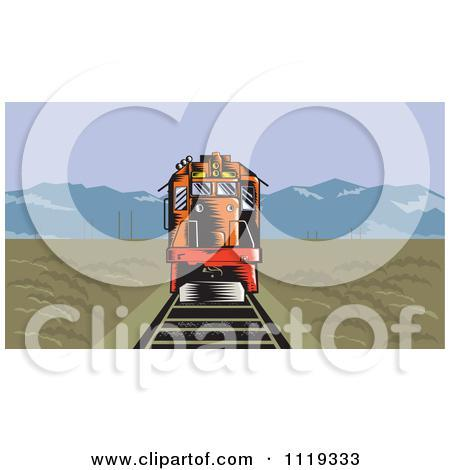train: (159, 149, 266, 308)
